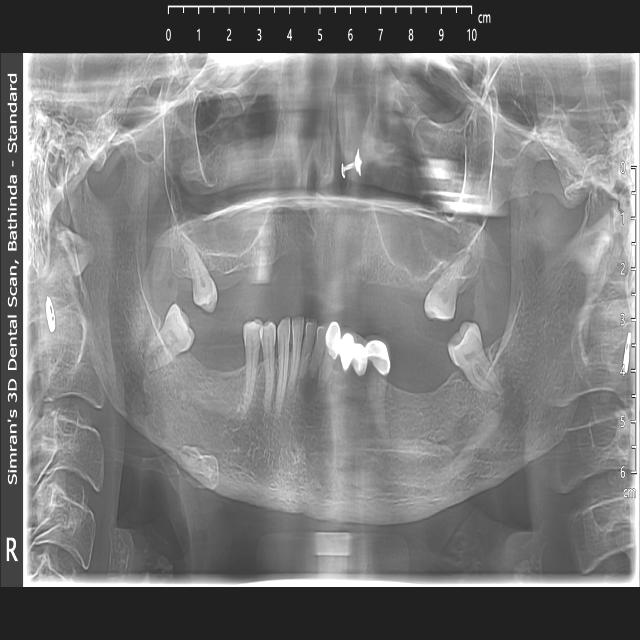Caries: (159, 306, 193, 357)
Crown: (365, 337, 390, 371), (349, 340, 367, 378), (329, 318, 342, 365), (339, 333, 355, 370)
Mandibular Canal: (112, 277, 234, 448)
Missing teeth: (213, 250, 437, 306), (389, 351, 465, 388), (188, 330, 245, 378)
Periapical lesion: (298, 378, 322, 407), (138, 342, 154, 377)
maxillary sinus: (362, 57, 494, 278), (164, 52, 287, 258)
